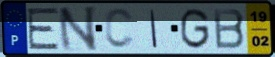B: (212, 7, 247, 50)
C: (104, 7, 137, 50)
E: (25, 6, 60, 50)
G: (179, 7, 211, 51)
I: (149, 8, 159, 50)
N: (57, 4, 99, 53)
